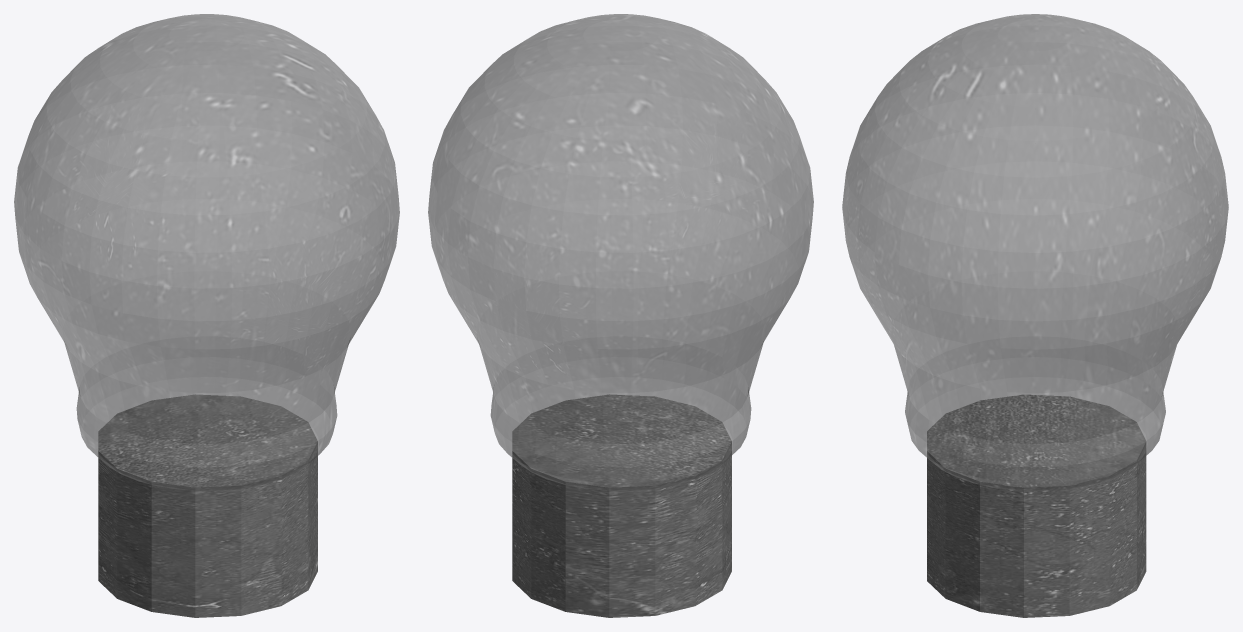
The model's file is bulb.fbx.
The picture shows the model from 3 angles, left to right: view 1: azimuth 30°, elevation 25°; view 2: azimuth 150°, elevation 25°; view 3: azimuth 270°, elevation 25°; orthographic projection.
Visible parts, largest first — view 1: Sphere, Cylinder; view 2: Sphere, Cylinder; view 3: Sphere, Cylinder.
Boxes of the visible parts, box(x1,y1,x2,y2) form: Sphere: box(14, 14, 399, 490); Cylinder: box(98, 394, 317, 617); Sphere: box(428, 14, 813, 490); Cylinder: box(512, 394, 731, 617); Sphere: box(842, 14, 1228, 491); Cylinder: box(927, 394, 1146, 617).
Bounding box in the file's own units: 241 × 371 × 241.
Materials: 2 (2 with a texture image).
